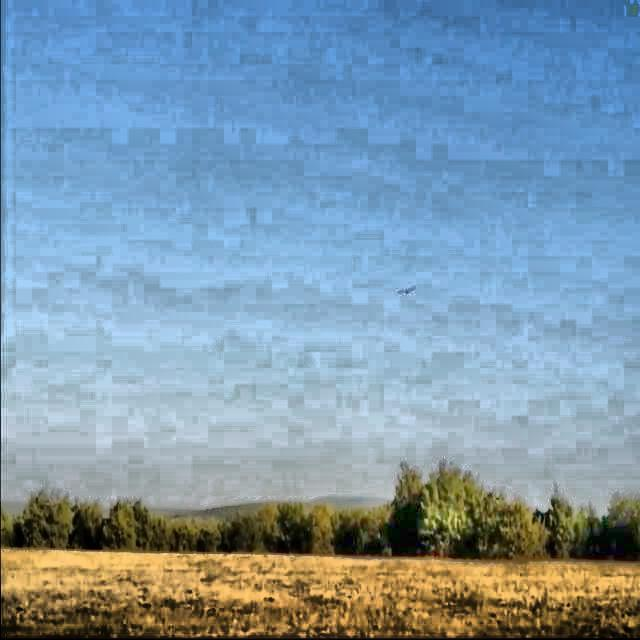iha: (384, 273, 416, 296)
